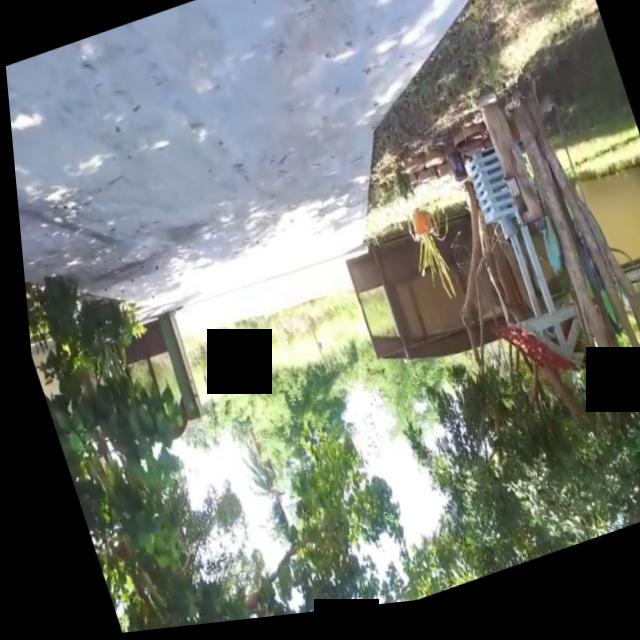Building: (448, 142, 584, 387), (338, 213, 513, 384), (110, 313, 203, 445), (575, 170, 640, 306)
Tree: (288, 61, 640, 610), (16, 191, 418, 640)
